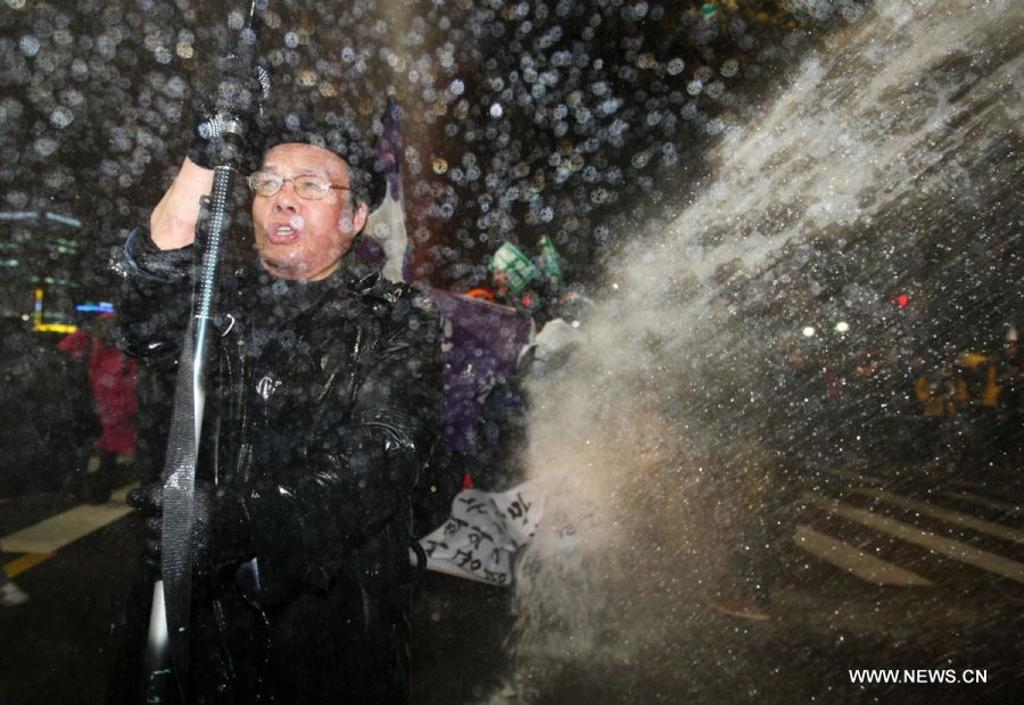face: (257, 147, 355, 271)
